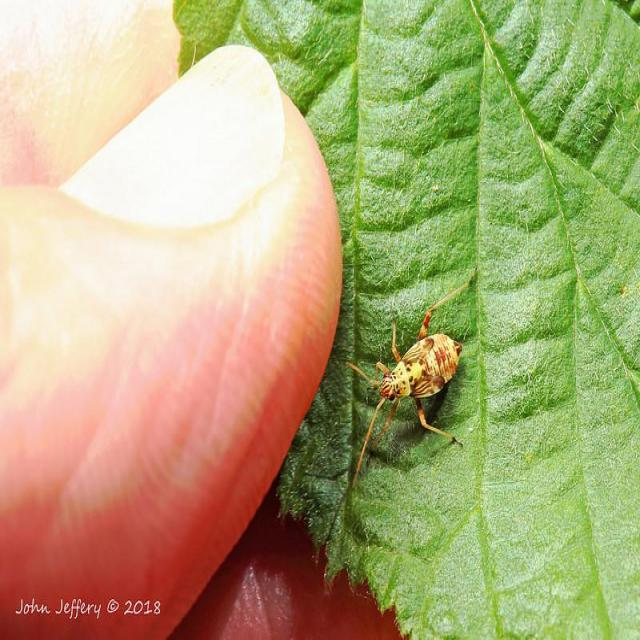Miridae-Adult-: (339, 306, 476, 510)
